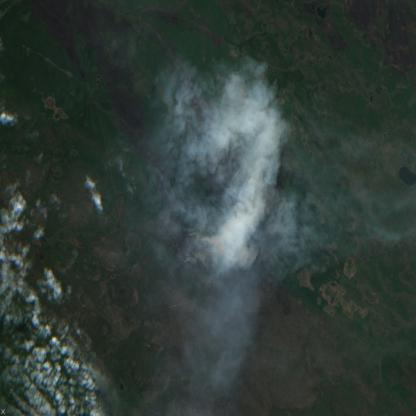fire: (168, 224, 224, 273)
